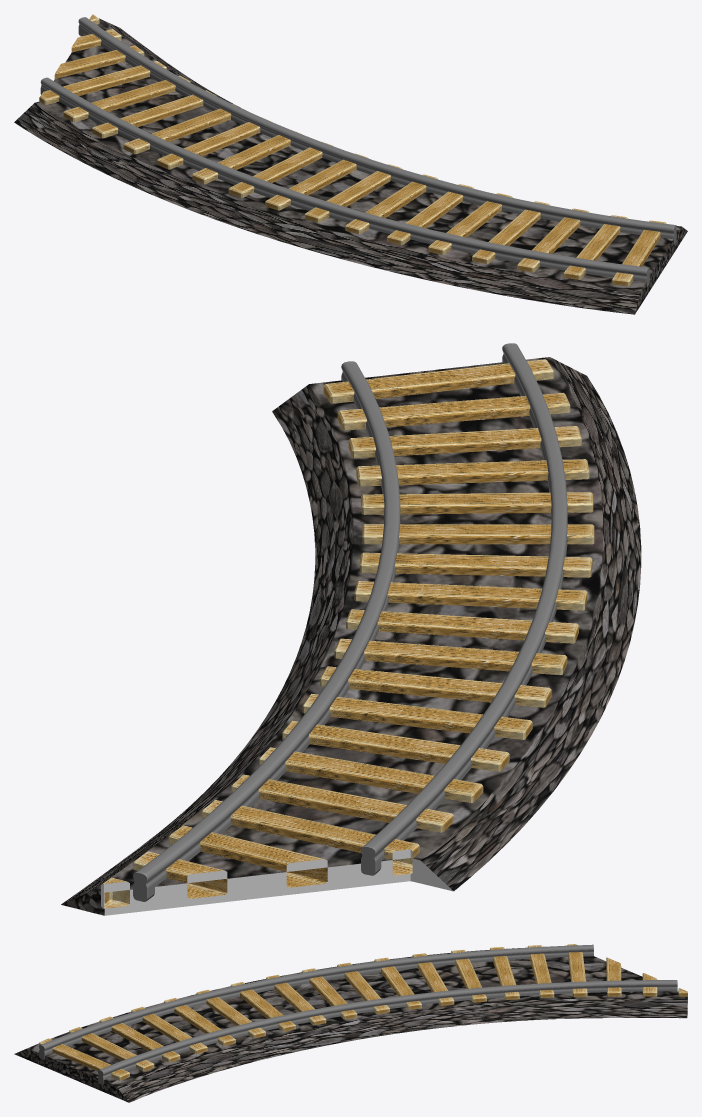
Rendered from curved-rail.glb.
3 views of the same model, one above another, from view 1: azimuth 30°, elevation 25°; view 2: azimuth 150°, elevation 25°; view 3: azimuth 270°, elevation 25° (orthographic). The views are drawn at different scales.
Visible parts, largest first — view 1: Sweep, Sweep_1, Sweep_4, Cube_1_24, Cube_1_25, Cube_1_23, Cube_1_26, Cube_1_27, Cube_1_28, Cube_1_29, Cube_1_30, Cube_1_31 (+9 smaller); view 2: Sweep, Sweep_4, Sweep_1, Cube, Cube_1_33, Cube_1_34, Cube_1_35, Cube_1_32, Cube_1_31, Cube_1_36, Cube_1_37, Cube_1_30 (+10 smaller); view 3: Sweep, Sweep_4, Sweep_1, Cube_1_38, Cube_1_37, Cube_1_36, Cube_1_35, Cube_1_34, Cube_1_33, Cube_1_32, Cube_1_31, Cube_1_30 (+8 smaller).
Part boxes in pixels (left/top/right/bottom): Sweep: left=14, top=18, right=687, bottom=314; Sweep_1: left=40, top=77, right=649, bottom=286; Sweep_4: left=78, top=17, right=676, bottom=244; Cube_1_24: left=63, top=75, right=190, bottom=122; Cube_1_25: left=92, top=90, right=215, bottom=138; Cube_1_23: left=39, top=61, right=166, bottom=104; Cube_1_26: left=123, top=104, right=242, bottom=154; Cube_1_27: left=157, top=117, right=271, bottom=169; Cube_1_28: left=192, top=130, right=301, bottom=184; Cube_1_29: left=228, top=141, right=333, bottom=197; Cube_1_30: left=265, top=153, right=368, bottom=210; Cube_1_31: left=304, top=164, right=402, bottom=222; Sweep: left=61, top=357, right=641, bottom=915; Sweep_4: left=133, top=361, right=400, bottom=901; Sweep_1: left=361, top=343, right=567, bottom=875; Cube: left=101, top=849, right=452, bottom=915; Cube_1_33: left=362, top=524, right=594, bottom=544; Cube_1_34: left=361, top=492, right=593, bottom=514; Cube_1_35: left=356, top=459, right=589, bottom=486; Cube_1_32: left=359, top=552, right=592, bottom=577; Cube_1_31: left=354, top=581, right=587, bottom=610; Cube_1_36: left=348, top=426, right=581, bottom=458; Cube_1_37: left=337, top=393, right=570, bottom=430; Cube_1_30: left=346, top=609, right=578, bottom=643; Sweep: left=14, top=948, right=687, bottom=1102; Sweep_4: left=98, top=980, right=677, bottom=1084; Sweep_1: left=39, top=944, right=593, bottom=1059; Cube_1_38: left=39, top=1038, right=129, bottom=1080; Cube_1_37: left=69, top=1027, right=154, bottom=1071; Cube_1_36: left=99, top=1016, right=180, bottom=1062; Cube_1_35: left=131, top=1006, right=207, bottom=1054; Cube_1_34: left=164, top=997, right=235, bottom=1046; Cube_1_33: left=196, top=989, right=265, bottom=1038; Cube_1_32: left=230, top=982, right=295, bottom=1031; Cube_1_31: left=266, top=974, right=326, bottom=1025; Cube_1_30: left=301, top=968, right=357, bottom=1019.
Bounding box in the file's own units: 9.15 × 0.574 × 17.01.
Materials: 3 (3 with a texture image).
